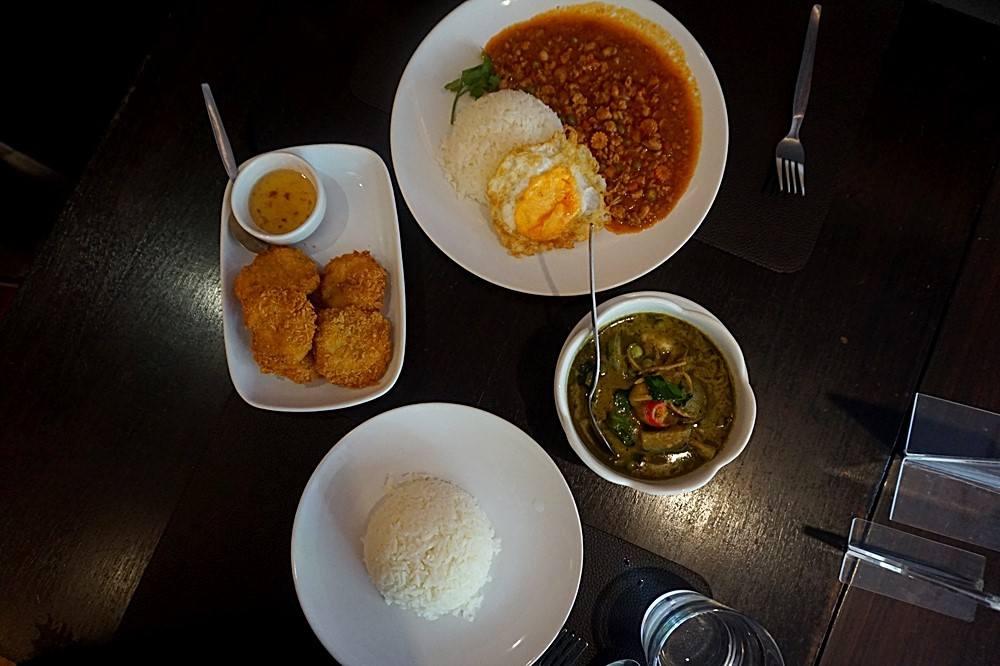fried egg: (497, 155, 602, 245)
plain rice: (375, 483, 495, 608), (452, 95, 532, 155)
